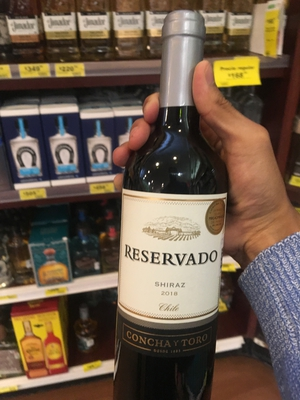reservado shiraz: (114, 25, 226, 400)
